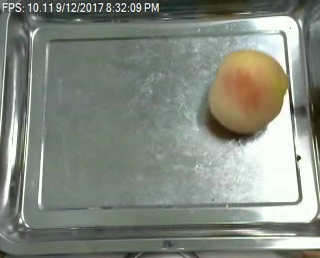Peach: (208, 49, 289, 134)
